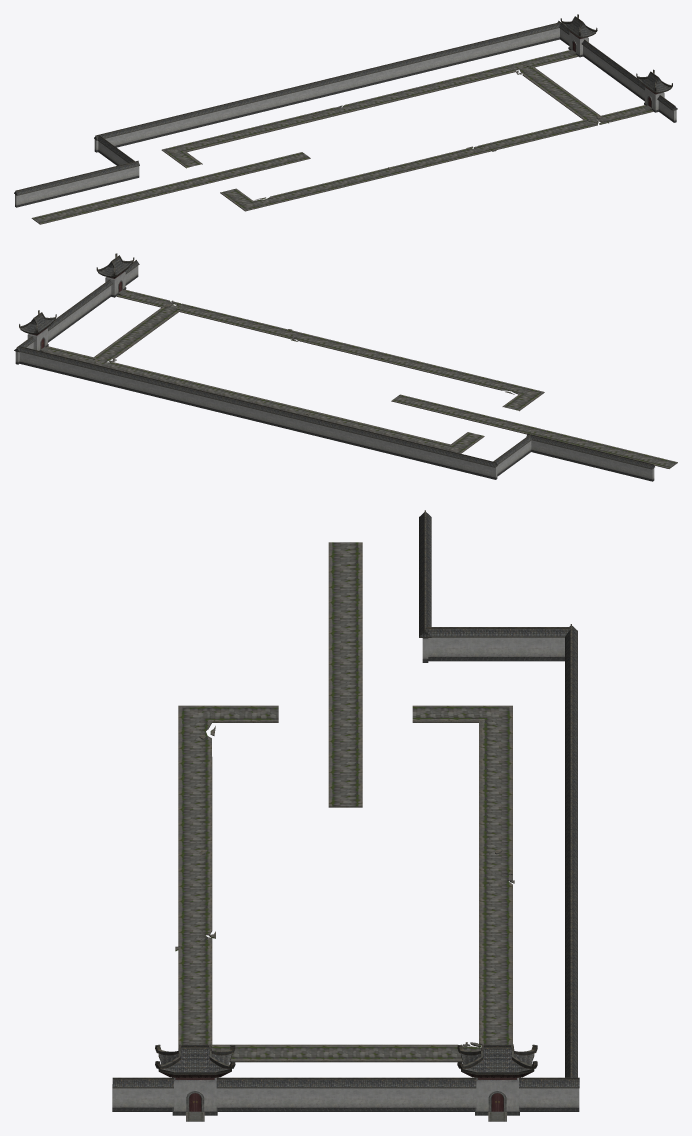
The model's file is q01c_building_008.FBX.
3 renders of one model, top to bottom at view 1: azimuth 30°, elevation 25°; view 2: azimuth 150°, elevation 25°; view 3: azimuth 270°, elevation 25°, orthographic. The views are drawn at different scales.
Visible parts, largest first — view 1: q01c_building_08_04, q01c_building_08_02, q01c_building_08_01; view 2: q01c_building_08_04, q01c_building_08_02, q01c_building_08_01; view 3: q01c_building_08_04, q01c_building_08_01, q01c_building_08_02, q01c_building_08_03.
Boxes of the visible parts, box(x1,y1,x2,y2) form: q01c_building_08_04: box(31, 50, 653, 224); q01c_building_08_02: box(15, 28, 676, 207); q01c_building_08_01: box(14, 14, 677, 195); q01c_building_08_04: box(46, 289, 677, 468); q01c_building_08_02: box(15, 266, 654, 481); q01c_building_08_01: box(14, 253, 654, 469); q01c_building_08_04: box(175, 542, 514, 1062); q01c_building_08_01: box(112, 510, 579, 1088); q01c_building_08_02: box(112, 637, 579, 1115); q01c_building_08_03: box(159, 1071, 532, 1121).
Bounding box in the file's own units: 16811 × 909 × 5742.
